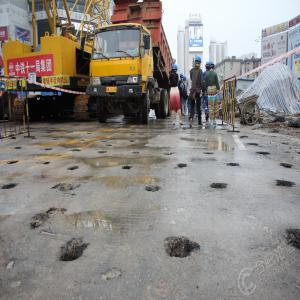blue: (209, 61, 216, 72), (196, 56, 202, 68), (173, 64, 179, 74), (206, 62, 211, 71), (184, 76, 188, 83), (181, 73, 184, 80)
white: (190, 67, 194, 75)
yellow: (2, 85, 6, 92)
